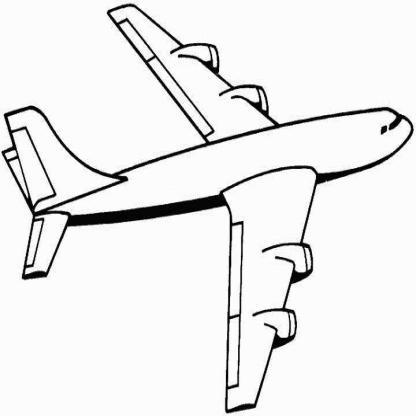CIV_Plane: (0, 4, 414, 410)
